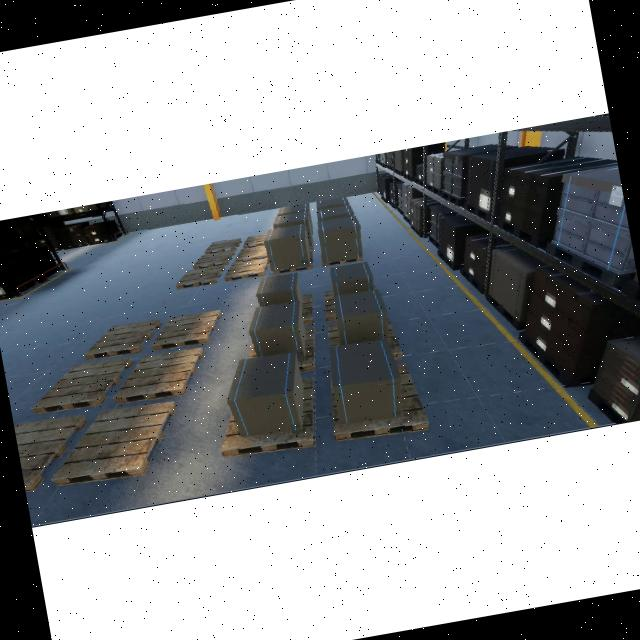wooden_pallet: (50, 400, 176, 486), (329, 362, 429, 439), (221, 376, 314, 456), (30, 357, 134, 414), (113, 347, 204, 405), (83, 318, 162, 360), (150, 310, 222, 351), (176, 265, 224, 290), (223, 258, 268, 281), (272, 251, 313, 274), (192, 249, 235, 269), (204, 237, 242, 254)
